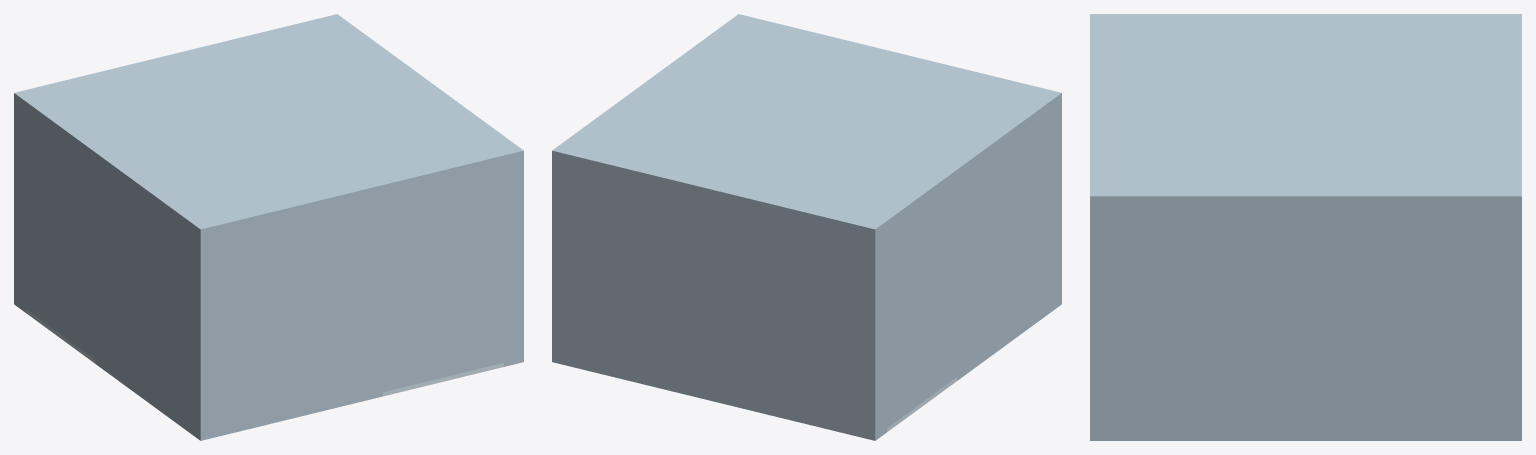
Rendered from rill-bend.glb.
3 renders of one model, left to right at view 1: azimuth 30°, elevation 25°; view 2: azimuth 150°, elevation 25°; view 3: azimuth 270°, elevation 25°, orthographic. The views are drawn at different scales.
Parts seen in each view (by area): view 1: ice-rock_7, ice-rock_3, plug_rill_south, plug_rill_west, ice-rock_4, ice-rock_2, ice-rock_6, ice-rock_1, plug_rill_south.001, ice-rock_5, plug_rill_west.001, ice_3; view 2: ice-rock_7, ice-rock_1, ice-rock_3, plug_rill_west, ice-rock_5, plug_rill_west.001; view 3: ice-rock_7, ice-rock_2, ice-rock_1.
Part boxes in pixels (x1,y1,x2,y2): ice-rock_7: [14, 14, 523, 250]; ice-rock_3: [95, 174, 341, 440]; plug_rill_south: [382, 198, 503, 375]; plug_rill_west: [25, 144, 95, 342]; ice-rock_4: [342, 206, 382, 406]; ice-rock_2: [503, 172, 523, 366]; ice-rock_6: [382, 177, 503, 227]; ice-rock_1: [14, 114, 25, 312]; plug_rill_south.001: [382, 346, 503, 391]; ice-rock_5: [25, 123, 95, 194]; plug_rill_west.001: [25, 292, 95, 359]; ice_3: [382, 363, 503, 396]; ice-rock_7: [552, 14, 1061, 250]; ice-rock_1: [552, 172, 886, 440]; ice-rock_3: [957, 114, 1061, 380]; plug_rill_west: [887, 212, 956, 410]; ice-rock_5: [887, 191, 956, 262]; plug_rill_west.001: [887, 360, 956, 427]; ice-rock_7: [1090, 14, 1521, 220]; ice-rock_2: [1090, 221, 1494, 440]; ice-rock_1: [1495, 221, 1521, 440].
Size of the model in its own units: 8 by 5 by 8.
